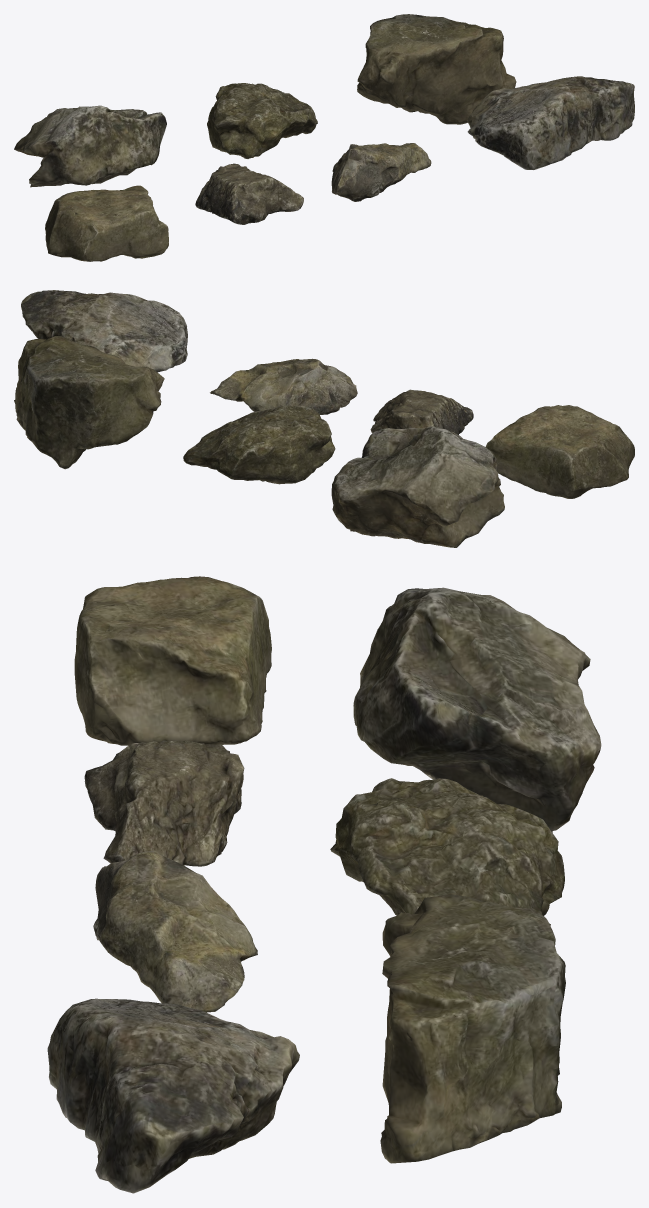
File: prop_rock_moss_b.glb
3 renders of one model, top to bottom at view 1: azimuth 30°, elevation 25°; view 2: azimuth 150°, elevation 25°; view 3: azimuth 270°, elevation 25°, orthographic. The views are drawn at different scales.
Parts seen in each view (by area): view 1: rock_moss_set_02_rock13, rock_moss_set_02_rock10, rock_moss_set_02_rock11, rock_moss_set_02_rock07, rock_moss_set_02_rock12, rock_moss_set_02_rock08, rock_moss_set_02_rock09; view 2: rock_moss_set_02_rock11, rock_moss_set_02_rock13, rock_moss_set_02_rock07, rock_moss_set_02_rock10, rock_moss_set_02_rock12, rock_moss_set_02_rock09, rock_moss_set_02_rock08; view 3: rock_moss_set_02_rock13, rock_moss_set_02_rock11, rock_moss_set_02_rock10, rock_moss_set_02_rock07, rock_moss_set_02_rock12, rock_moss_set_02_rock09, rock_moss_set_02_rock08.
Part boxes in pixels (x1=…): rock_moss_set_02_rock13: x1=357, y1=14, x2=516, y2=124; rock_moss_set_02_rock10: x1=467, y1=76, x2=634, y2=169; rock_moss_set_02_rock11: x1=14, y1=105, x2=166, y2=187; rock_moss_set_02_rock07: x1=45, y1=185, x2=168, y2=261; rock_moss_set_02_rock12: x1=207, y1=83, x2=317, y2=158; rock_moss_set_02_rock08: x1=195, y1=163, x2=303, y2=224; rock_moss_set_02_rock09: x1=331, y1=143, x2=431, y2=201; rock_moss_set_02_rock11: x1=331, y1=426, x2=504, y2=547; rock_moss_set_02_rock13: x1=14, y1=336, x2=164, y2=469; rock_moss_set_02_rock07: x1=485, y1=405, x2=634, y2=498; rock_moss_set_02_rock10: x1=21, y1=290, x2=187, y2=372; rock_moss_set_02_rock12: x1=183, y1=405, x2=335, y2=484; rock_moss_set_02_rock09: x1=210, y1=358, x2=357, y2=414; rock_moss_set_02_rock08: x1=370, y1=389, x2=473, y2=434; rock_moss_set_02_rock13: x1=380, y1=894, x2=565, y2=1163; rock_moss_set_02_rock11: x1=353, y1=587, x2=601, y2=832; rock_moss_set_02_rock10: x1=47, y1=998, x2=299, y2=1193; rock_moss_set_02_rock07: x1=74, y1=576, x2=271, y2=745; rock_moss_set_02_rock12: x1=330, y1=778, x2=564, y2=925; rock_moss_set_02_rock09: x1=93, y1=850, x2=257, y2=1012; rock_moss_set_02_rock08: x1=84, y1=740, x2=244, y2=866.
Size of the model in its own units: 8.28 by 1.36 by 3.41.
Materials: 1 (1 with a texture image).
